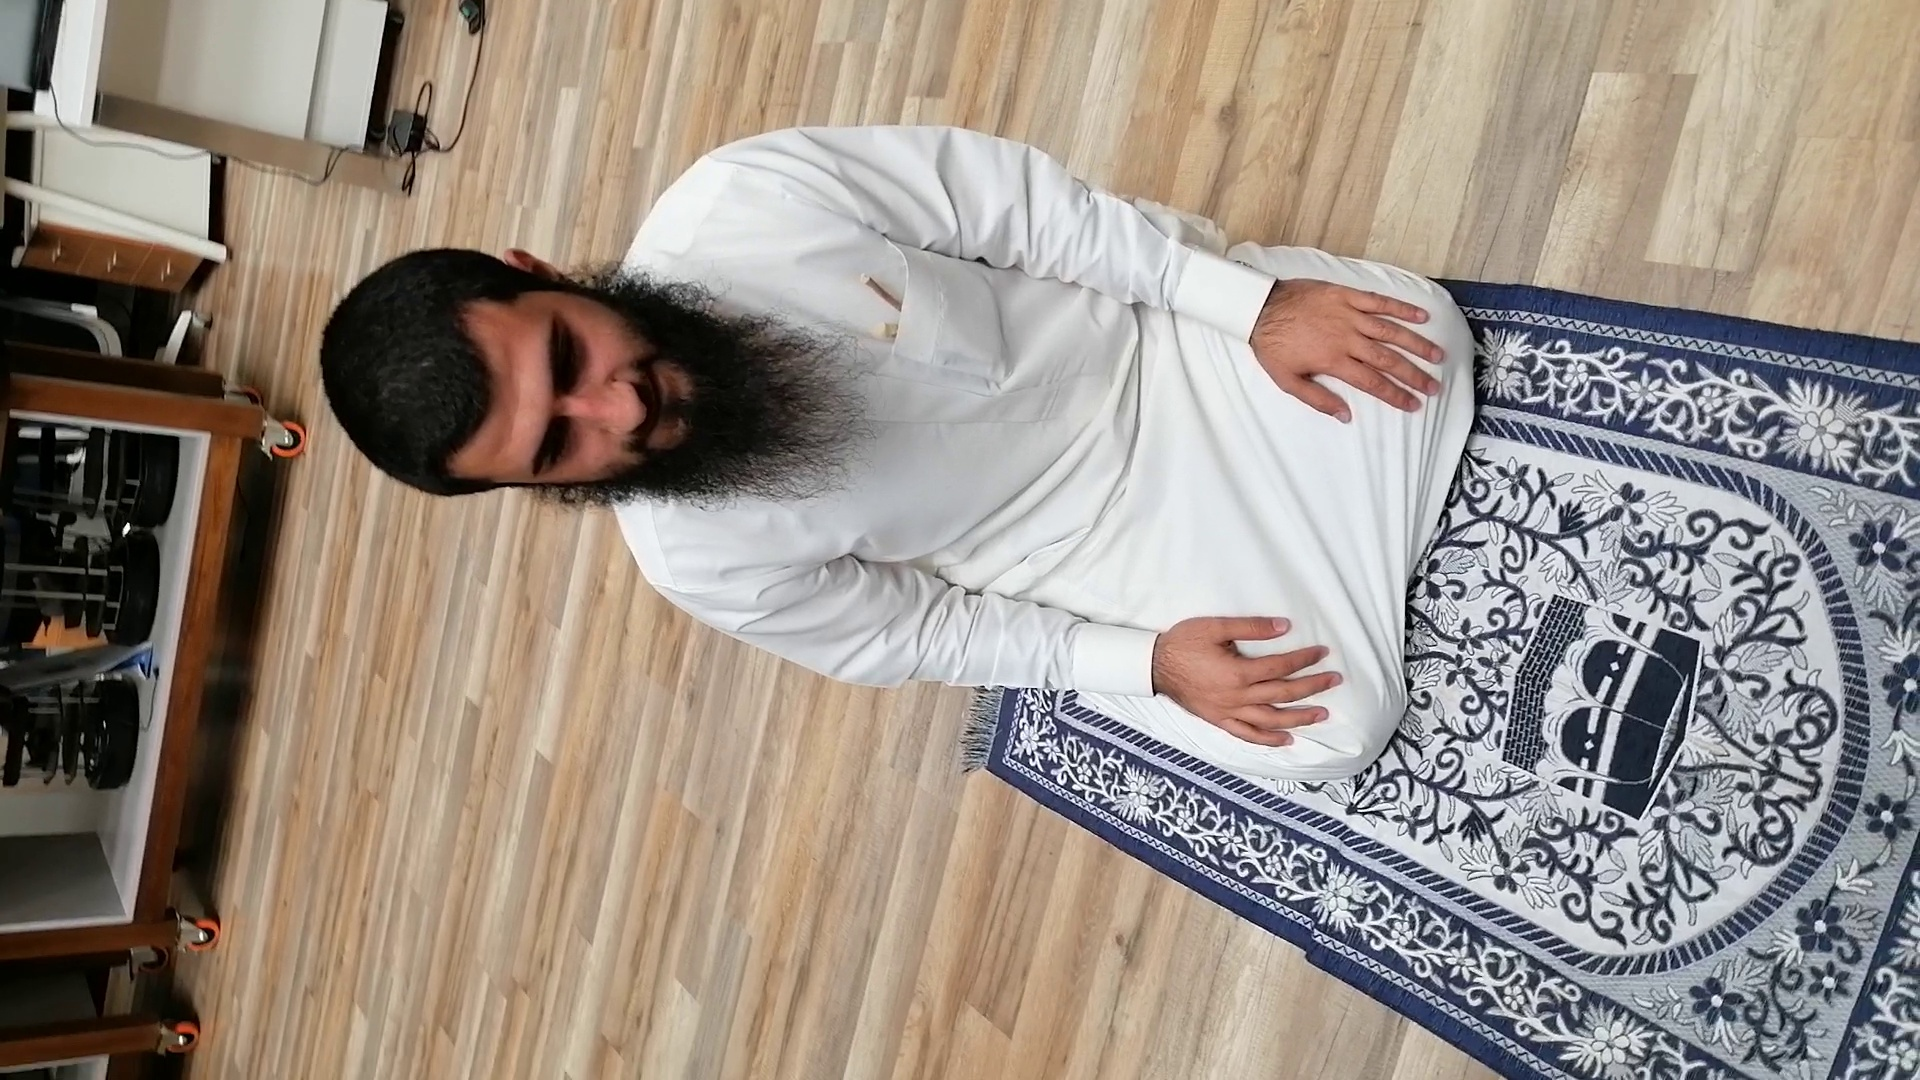sitting: (295, 116, 1592, 874)
